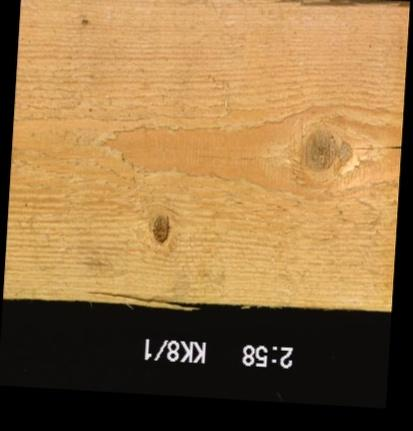dry_knot: (151, 212, 169, 242)
sound_knot: (302, 128, 338, 172)
split: (347, 141, 400, 151)
